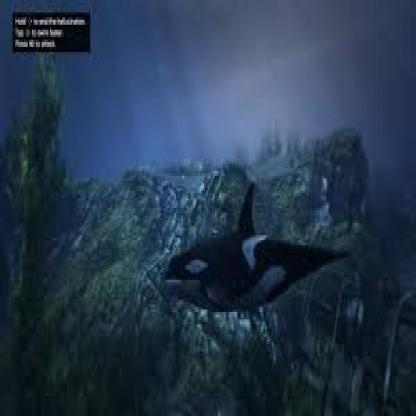killer_whale: (166, 188, 350, 359)
